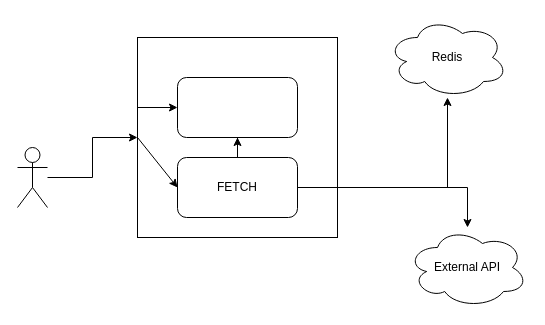
This 545x325 diagram has some shape labels left out. The shapes that lost their labels are listed below. From the top down, each one's centre as x and y in pixels, then its label:
pixel 237 107: AUTH
pixel 32 177: User
